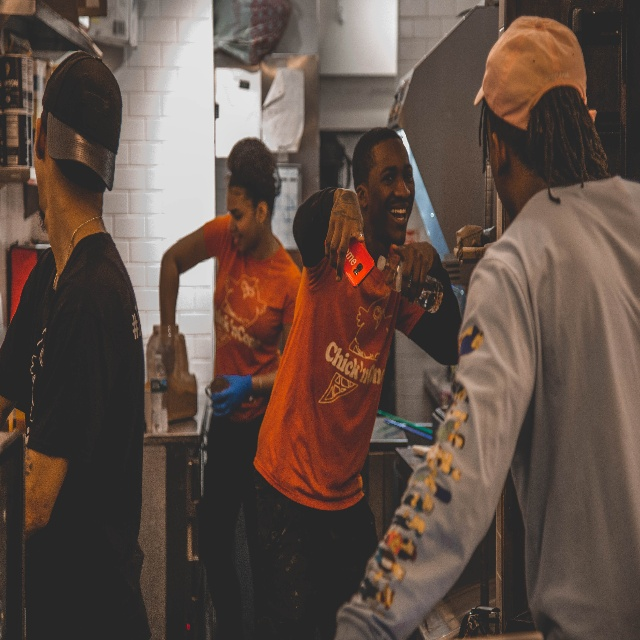Guantes: (211, 372, 253, 419)
Sin_guantes: (324, 188, 364, 283), (392, 240, 435, 307)
